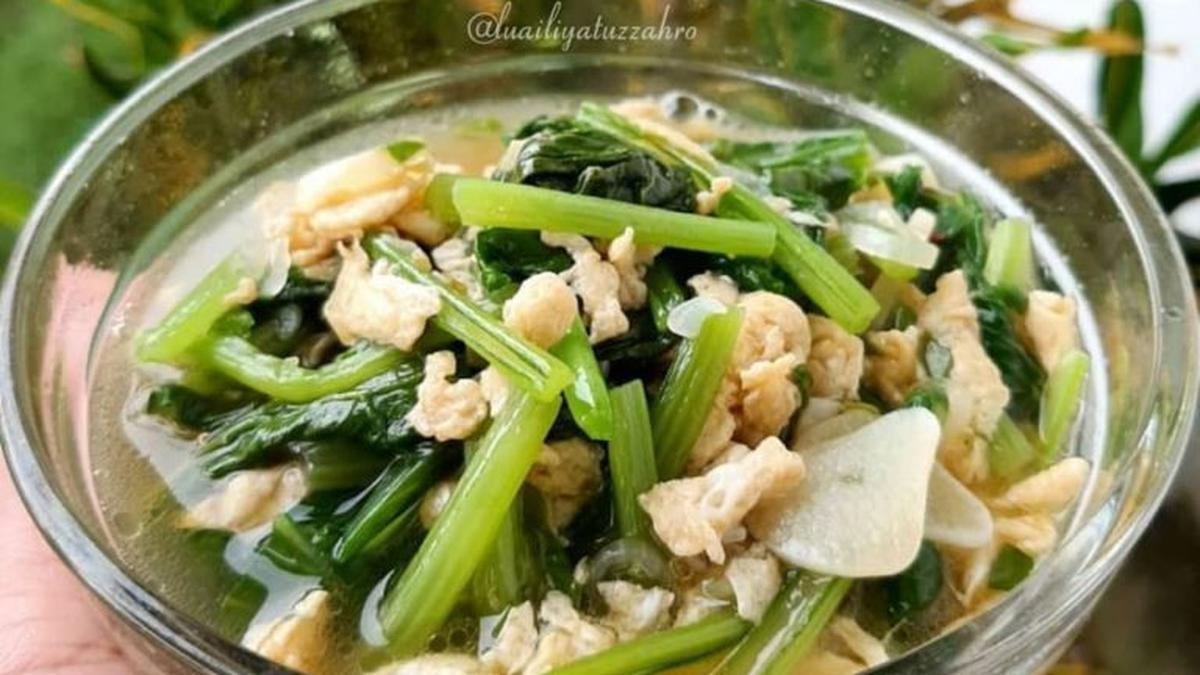buah_sayur_lainnya: (275, 184, 938, 632)
